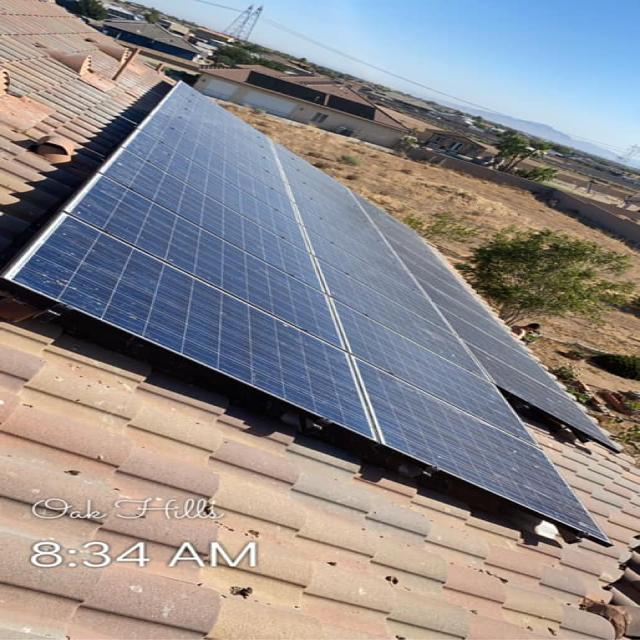dust-solar-panel: (322, 291, 625, 553)
